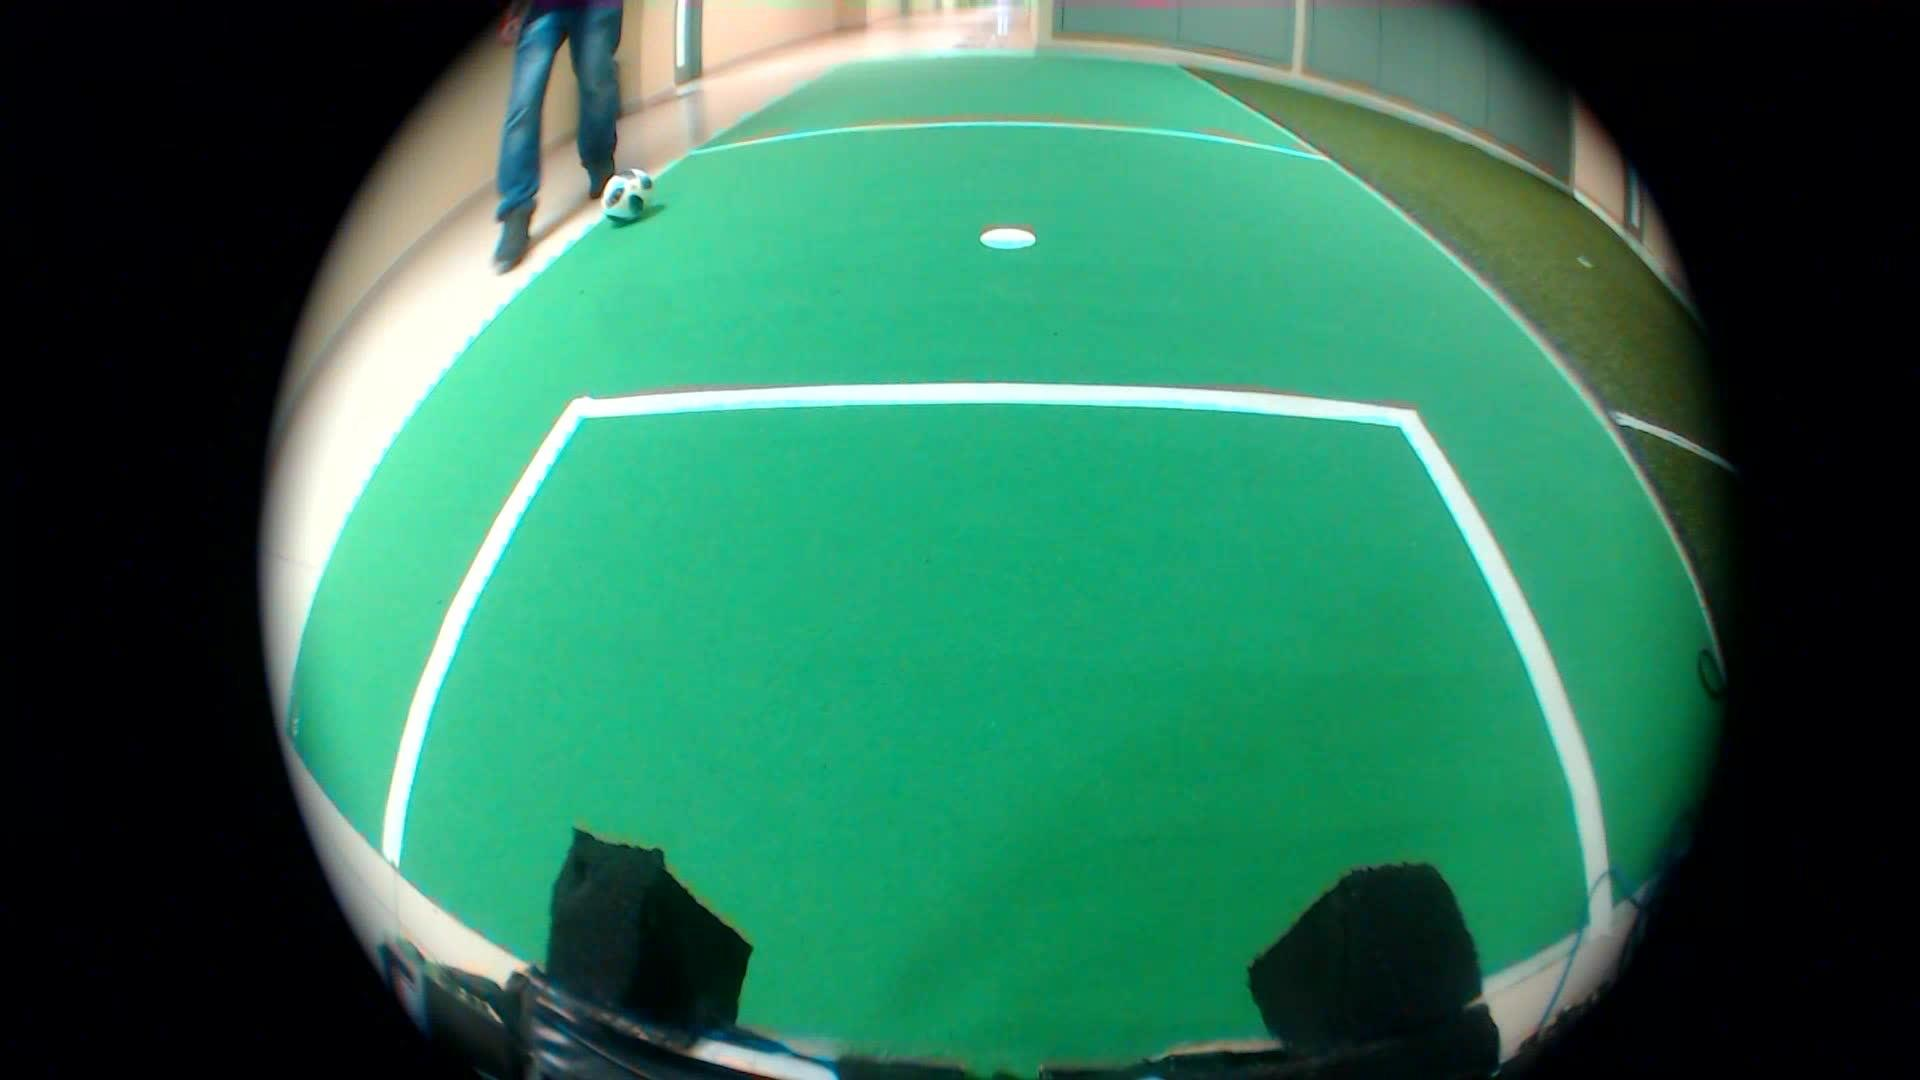ball: (597, 173, 655, 227)
